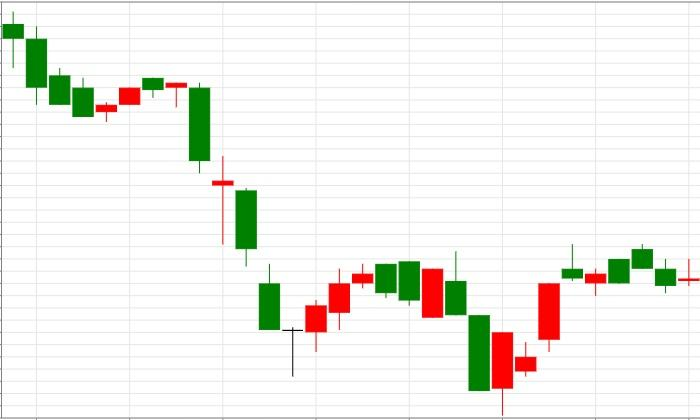bearish_engulfing_fall: (281, 263, 397, 375)
morning_star_rise: (142, 77, 328, 376)
